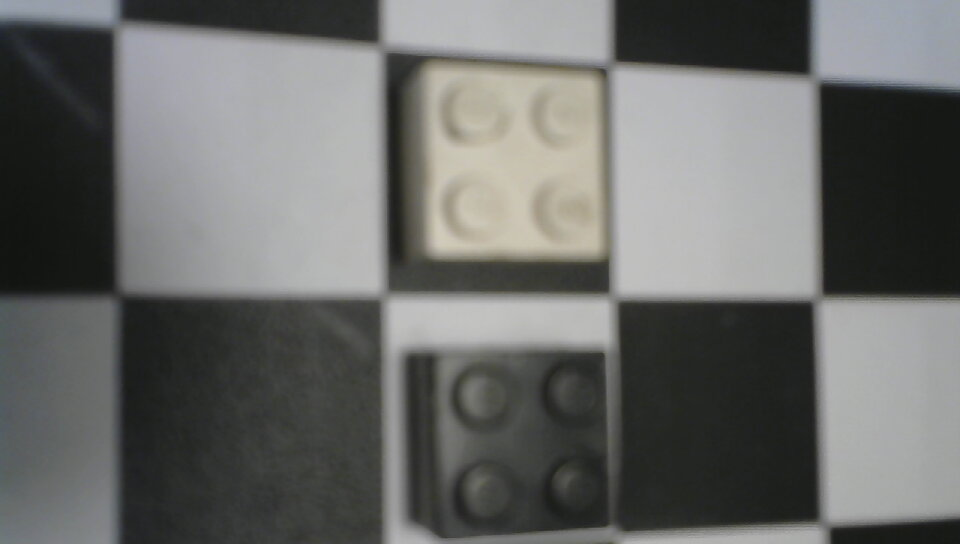wp: (390, 50, 616, 285)
